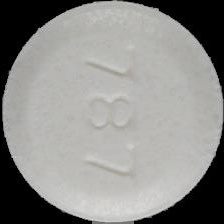61919-279: (0, 0, 224, 224)
